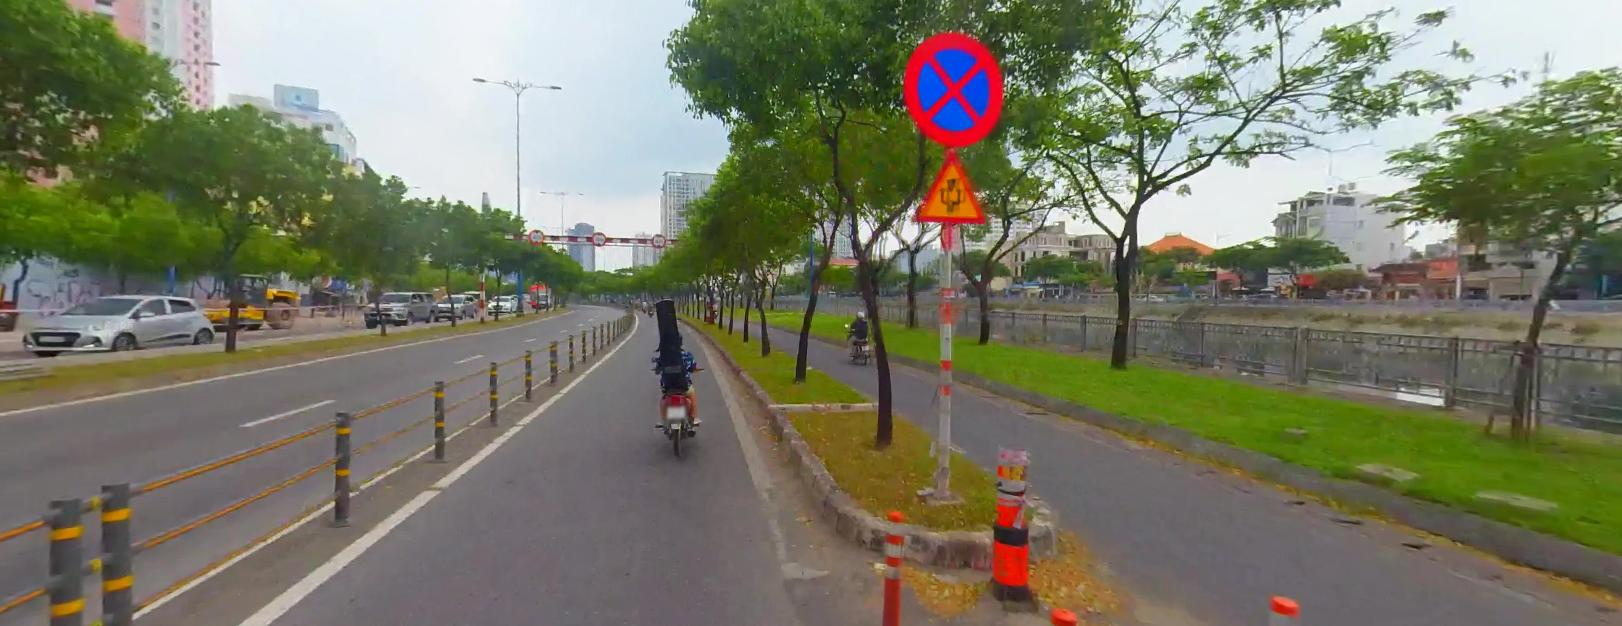Cam con lai: (528, 227, 544, 243), (528, 228, 543, 242), (591, 230, 605, 245), (651, 233, 665, 246), (592, 230, 605, 244), (652, 232, 665, 246)
Cam dung va do: (902, 31, 1005, 145), (903, 30, 1002, 144)
Nguy hiem: (910, 148, 986, 223), (909, 149, 986, 223)
